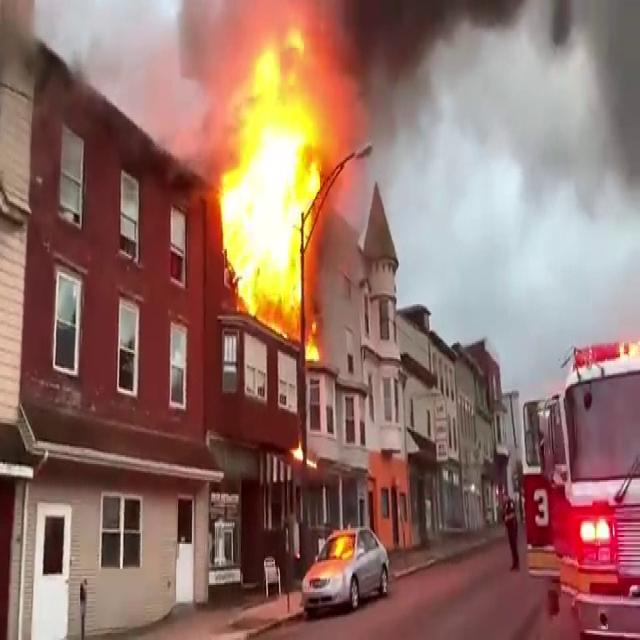Fire: (212, 10, 334, 330)
Smoke: (305, 0, 639, 188)
